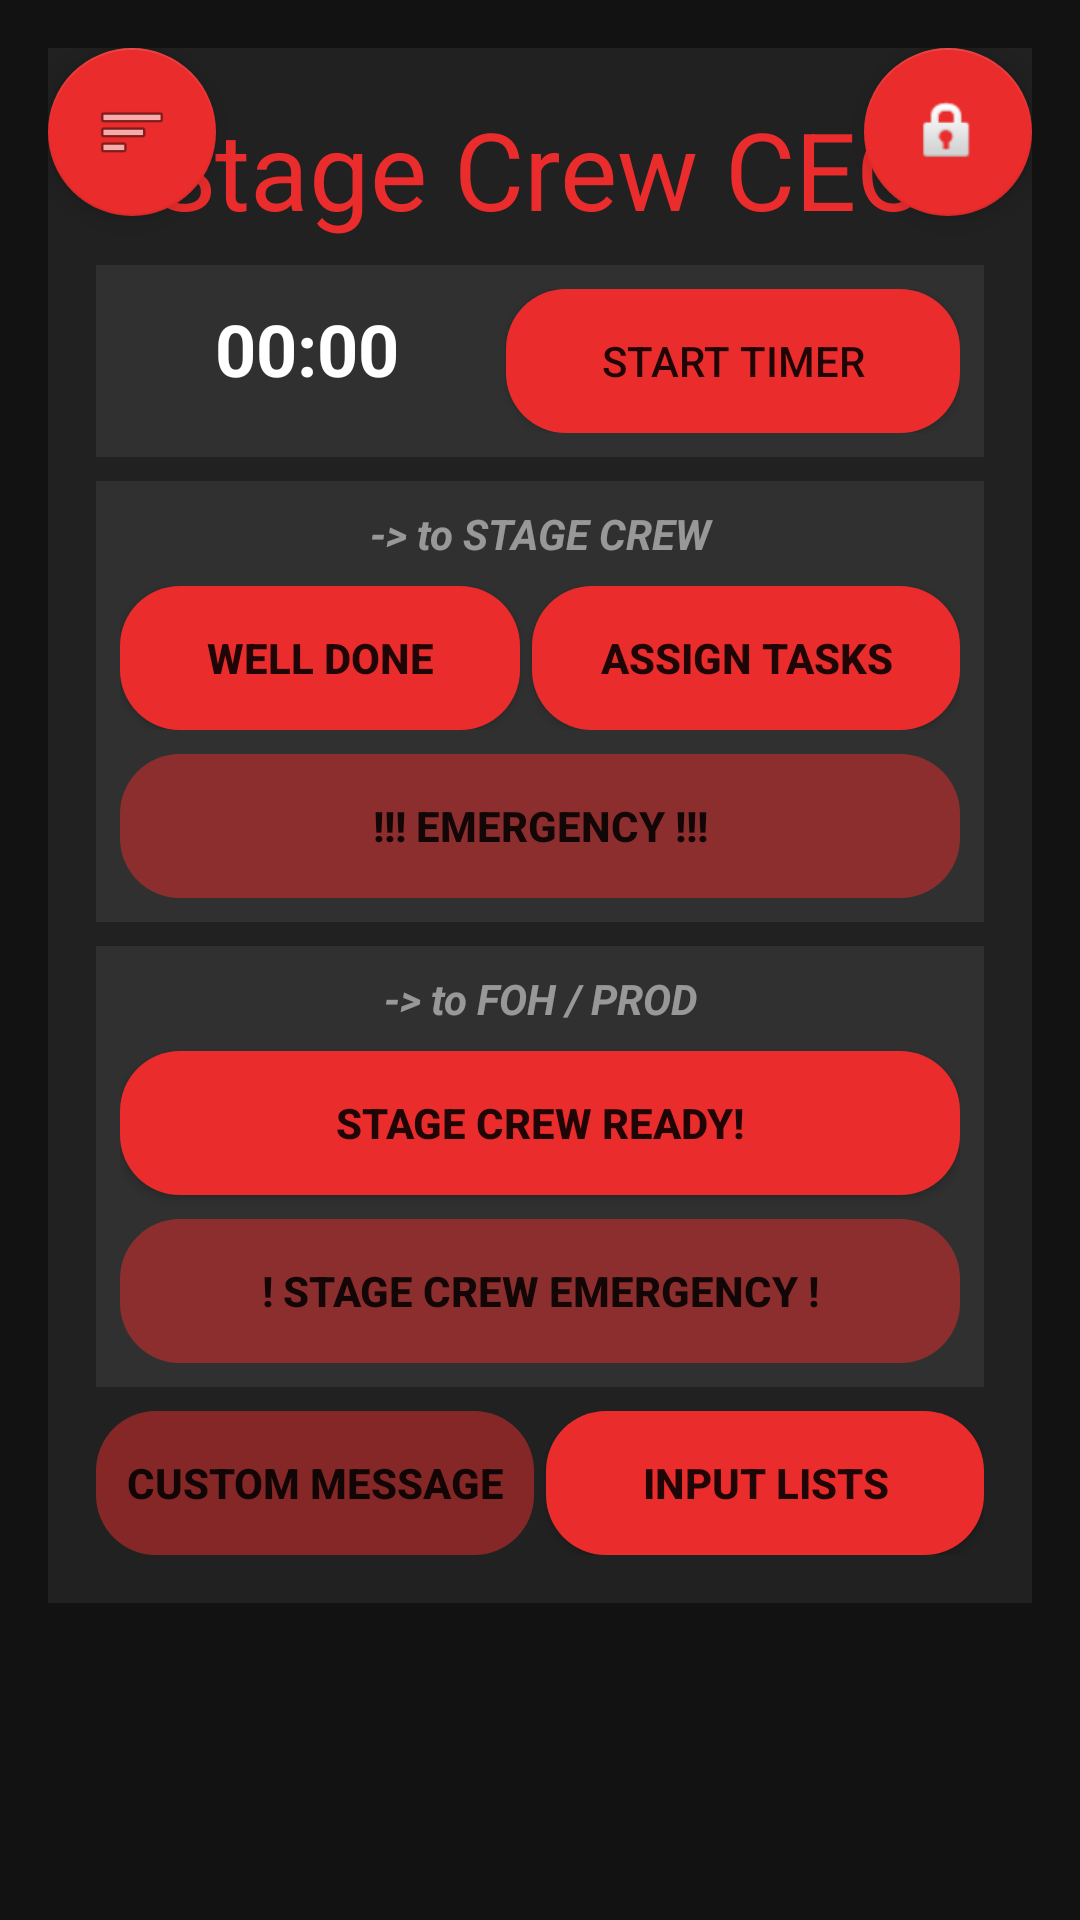

Named icons in this screenshot (1080 × 1920) and their centers, [x,y]:
lock idle: [948,132]
sort by size: [132,132]
